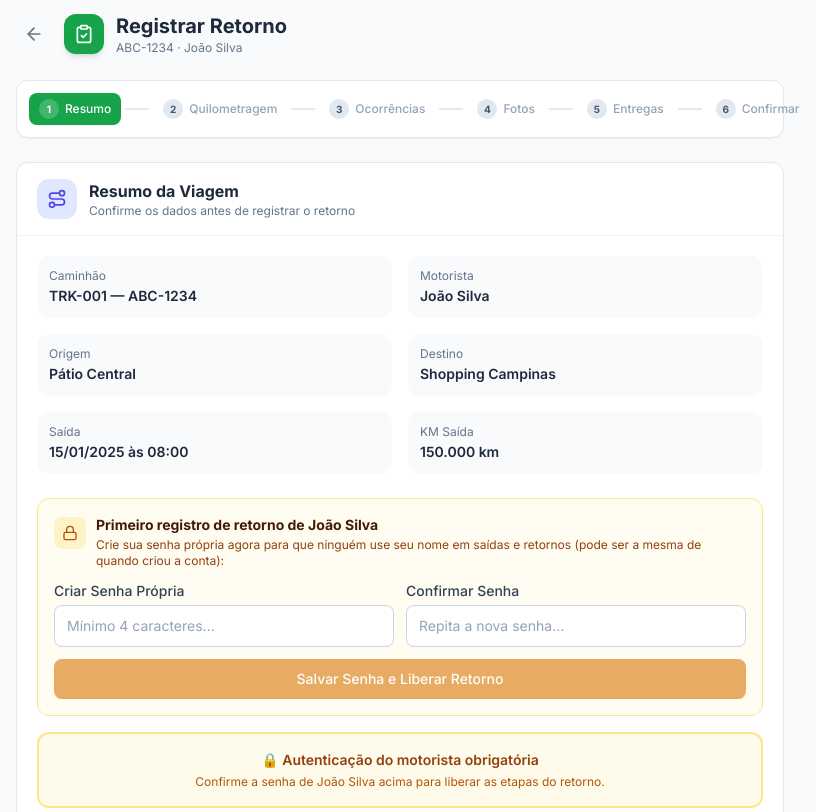
it: TripReturnPage › blocks advance on step 2 if KM is invalid
expect the heading "Resumo da Viagem" is shown: met, box [89,181,239,201]
In the password field labelled "Criar Senha Própria": x=224, y=626 [54,605,394,647], type "1234"
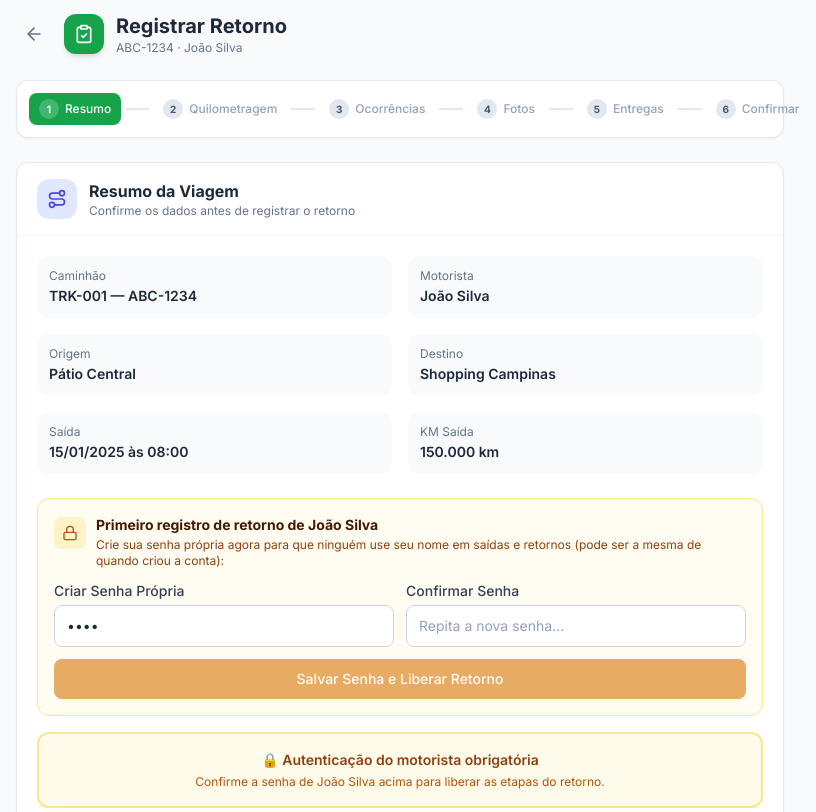
In the password field labelled "Confirmar Senha": x=576, y=626 [406,605,746,647], type "1234"
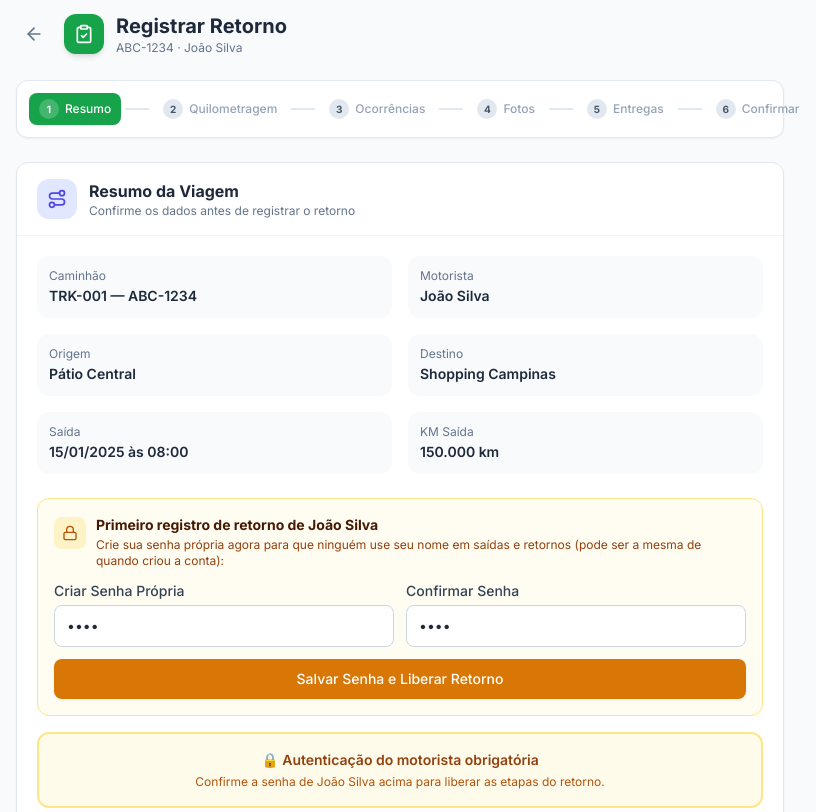
Click the button "Salvar Senha e Liberar Retorno": x=400, y=679 [54,659,746,699]
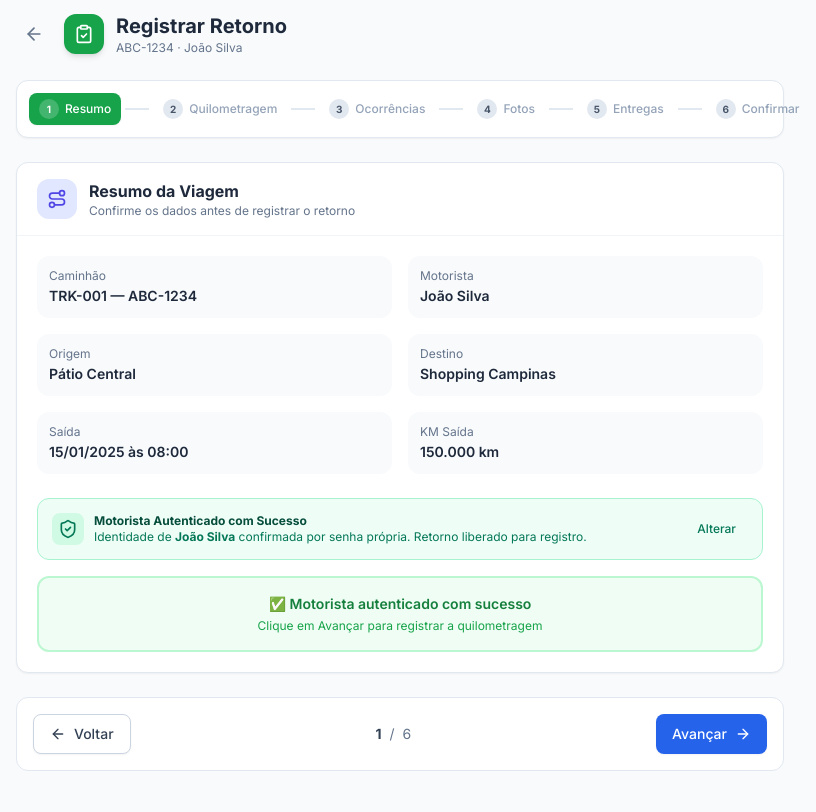
expect the text "Motorista Autenticado com Sucesso" is shown: met, box [94,513,307,528]
Click the button "Avançar": x=712, y=734 [656,714,767,754]
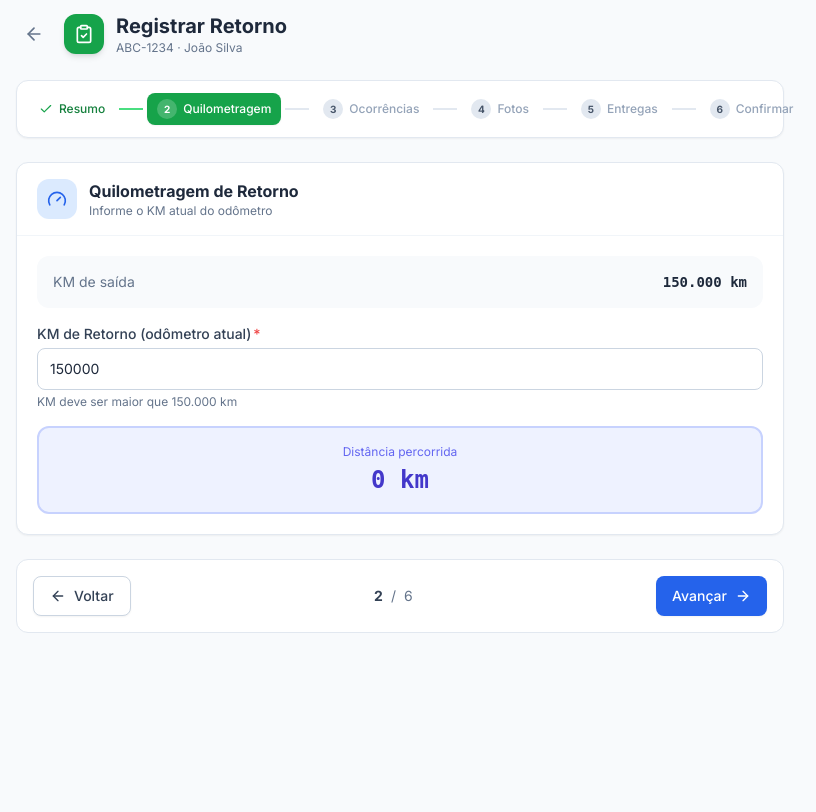
expect the heading "Quilometragem de Retorno" is shown: met, box [89,179,299,203]
Replace the text in the number field with placeholder "Ex: 185000" with "0": x=400, y=369 [37,348,763,390]
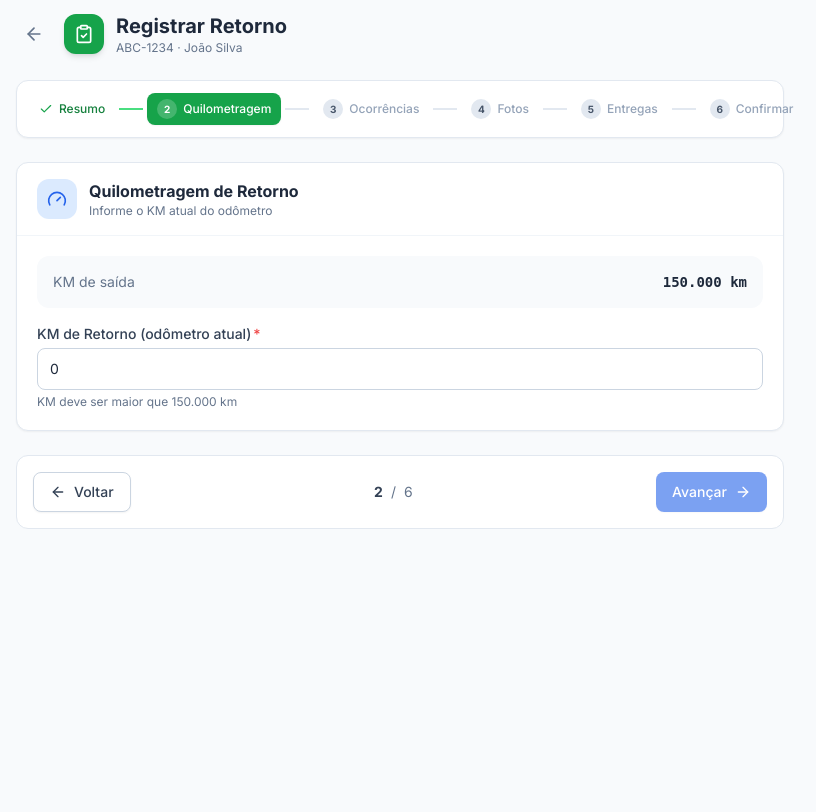
expect the button "Avançar" is disabled: met, box [656,472,767,512]
